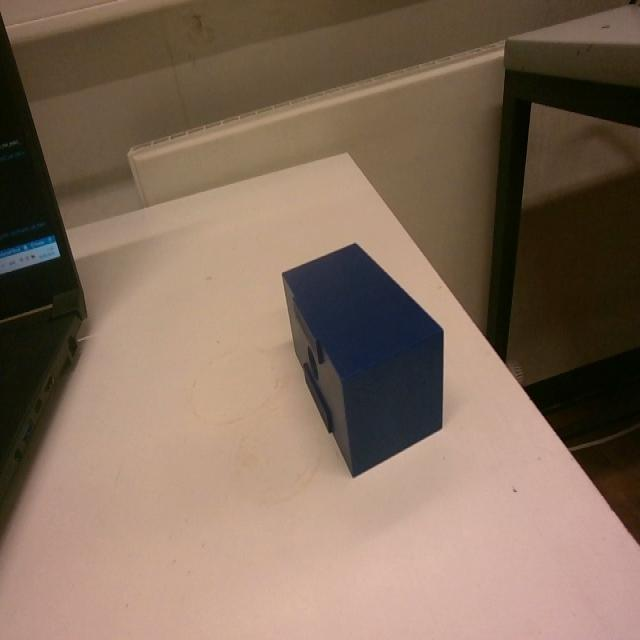Blue Cuboid: (279, 239, 446, 477)
